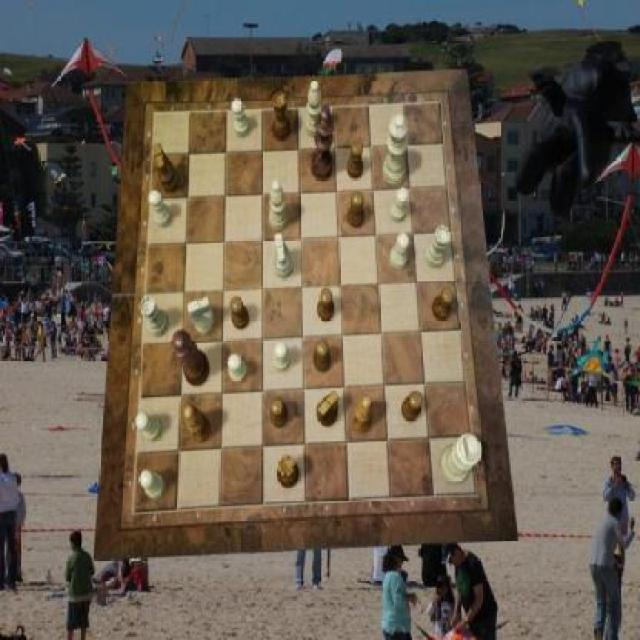bishop: (185, 406, 212, 445), (351, 395, 373, 434)
black-bishop: (310, 105, 334, 182)
black-king: (153, 143, 180, 194), (317, 391, 340, 427)
black-knight: (432, 288, 455, 322), (231, 297, 251, 331), (348, 191, 365, 228), (402, 391, 422, 422), (318, 288, 336, 322), (348, 142, 364, 179), (314, 338, 331, 372), (270, 397, 288, 428)
black-pawn: (171, 329, 210, 387)
black-queen: (272, 92, 292, 142), (277, 456, 300, 490)
black-rook: (305, 80, 322, 138), (270, 180, 288, 232)
white-bishop: (440, 434, 483, 484)
white-king: (188, 297, 215, 335), (274, 232, 294, 278)
white-knight: (148, 189, 172, 227), (389, 232, 409, 270), (140, 471, 166, 500), (136, 412, 162, 440), (231, 100, 250, 138), (389, 188, 409, 222), (272, 343, 292, 372), (228, 354, 248, 381)
white-pawn: (382, 114, 408, 186)
white-queen: (138, 297, 168, 338), (424, 225, 450, 267)
